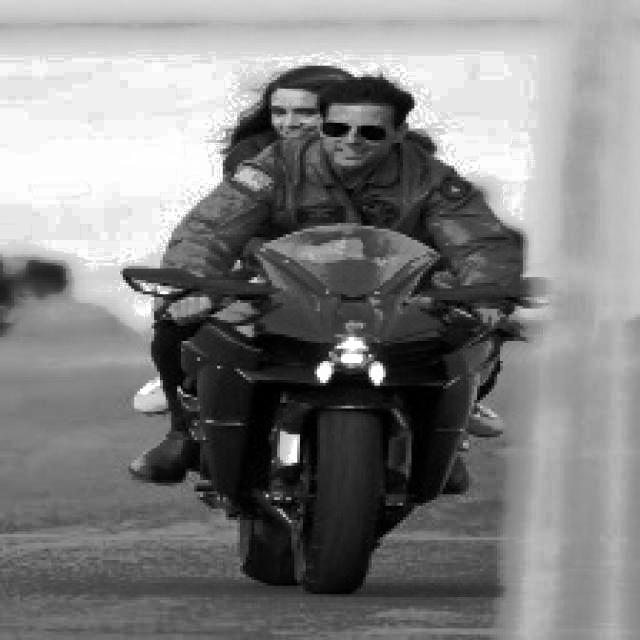Bike: (158, 231, 506, 609)
